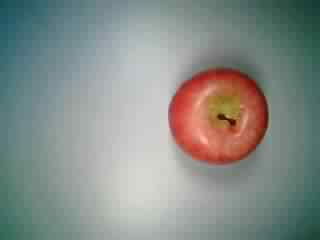apple: (163, 65, 270, 168)
